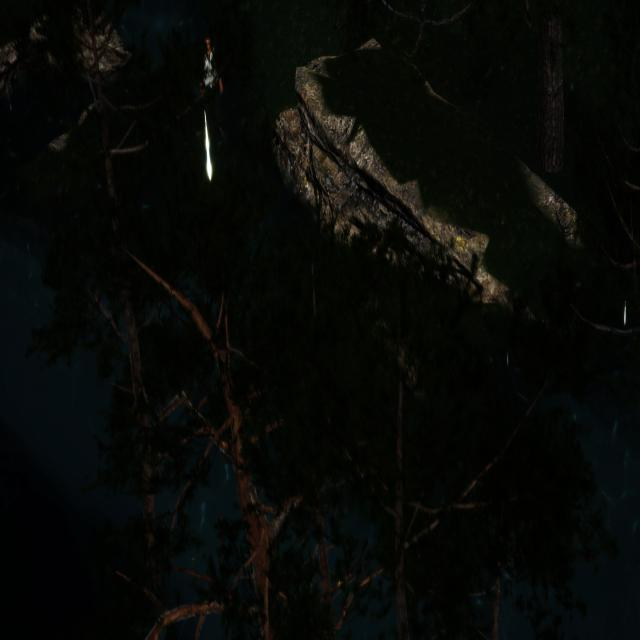Human: (198, 27, 225, 159)
